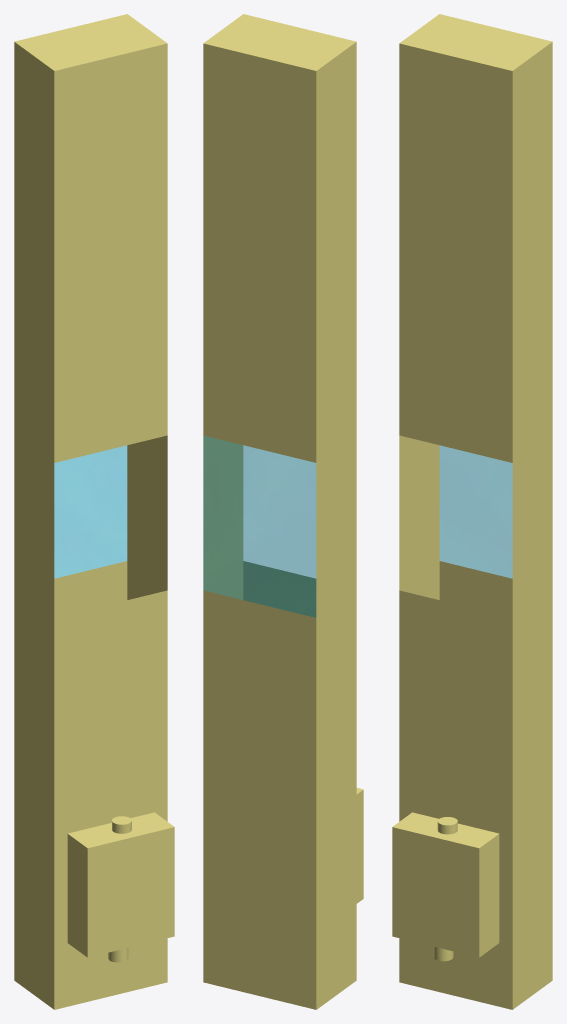
Rendered from Tubo.fbx.
3 renders of one model, left to right at view 1: azimuth 30°, elevation 25°; view 2: azimuth 150°, elevation 25°; view 3: azimuth 330°, elevation 25°, orthographic.
Visible parts, largest first — view 1: Model; view 2: Model; view 3: Model.
Boxes of the visible parts, <box> form: Model: <box>14,14,174,1009</box>; Model: <box>203,14,363,1009</box>; Model: <box>392,14,552,1009</box>.
Bounding box in the file's own units: 0.13 × 1.03 × 0.12.
